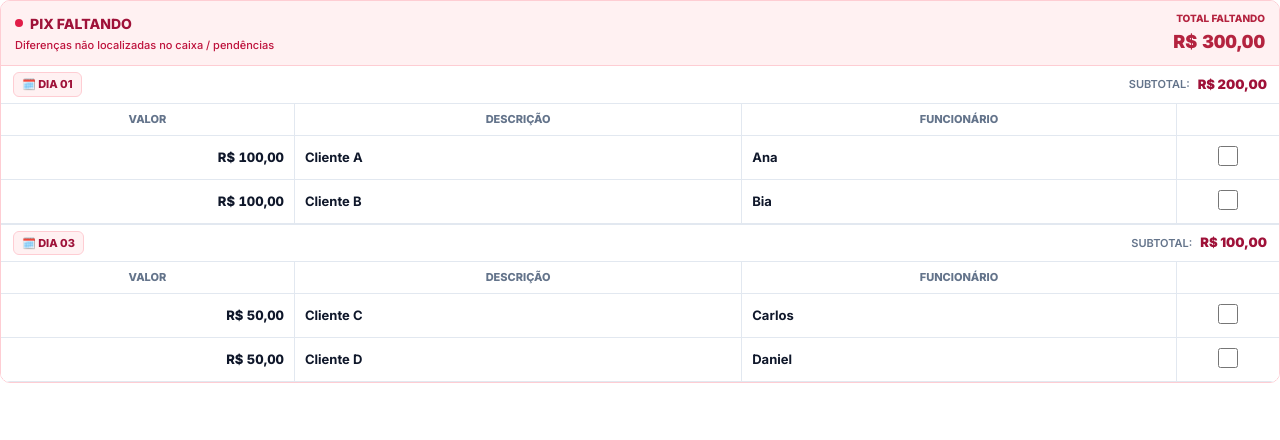
Test: Integração de Seleção Múltipla no Ledger do Relatório › permite selecionar intervalo com Shift entre linhas de dias diferentes
Clica na linha 1 do dia 1 (R$ 100)
Step 1. Click the 1st cell with class "rp-check-cell" → x=1228, y=158, box 1177,136 -> 1279,180
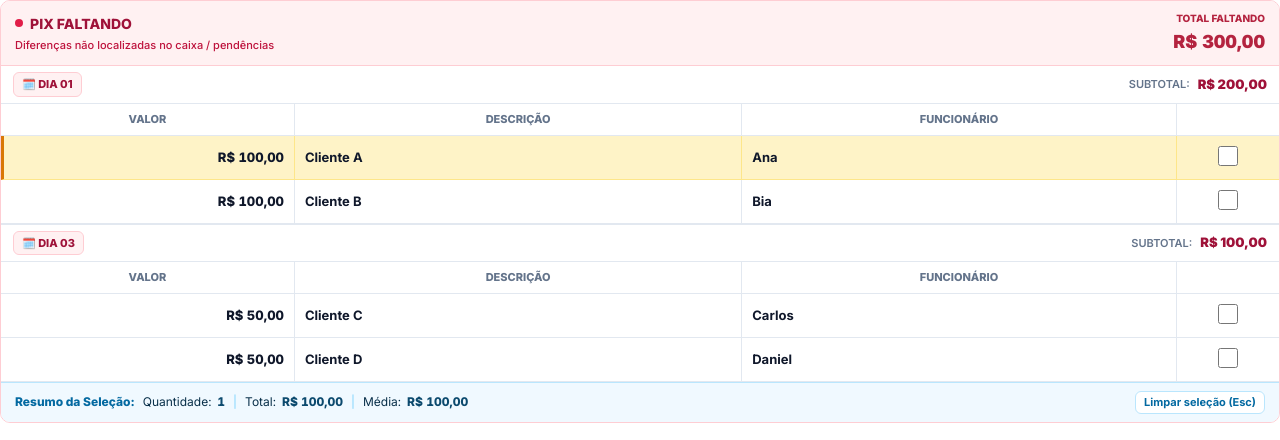
Shift + clique na primeira linha do dia 3 (item-3, R$ 50)
Step 2. Click the 3rd cell with class "rp-check-cell" → x=1228, y=316, box 1177,294 -> 1279,338
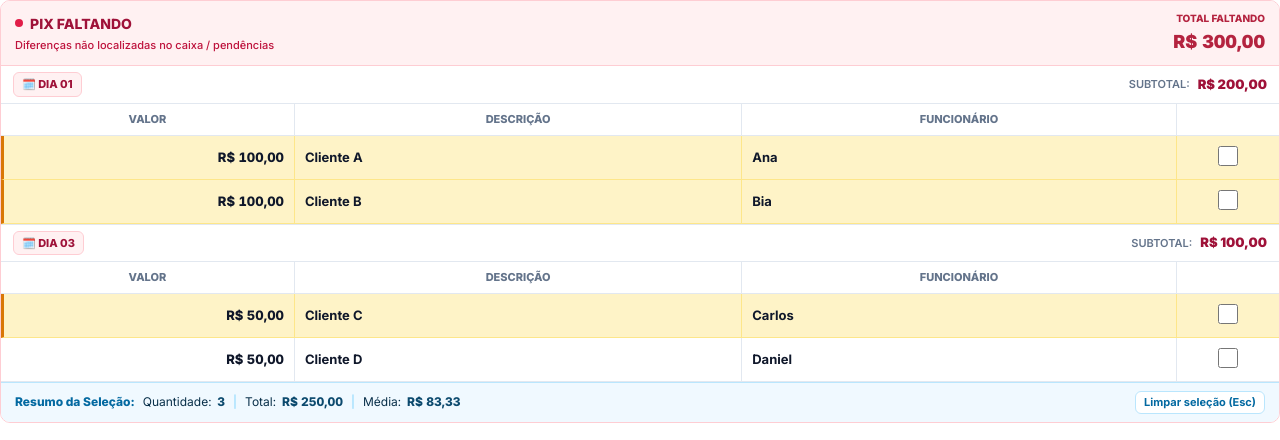
Expected: the footer "Resumo da Seleção" shows "Quantidade: 3", 1,382 -> 1279,422
